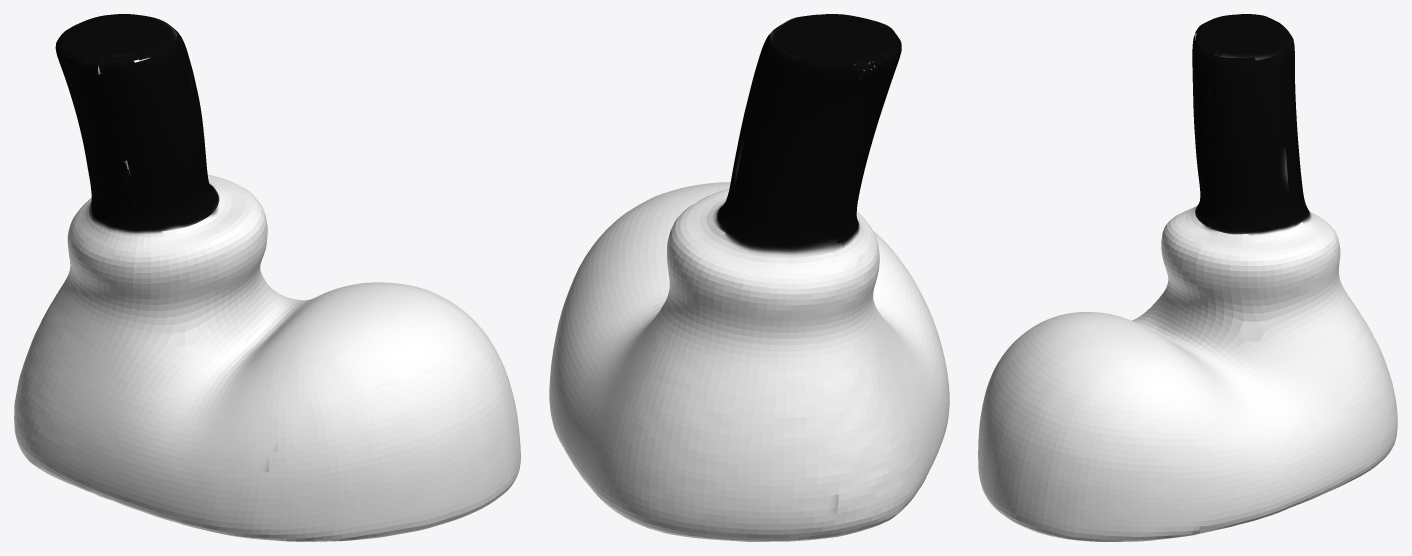
Rendered from LEG_L.glb.
3 views of the same model, side by side, from view 1: azimuth 30°, elevation 25°; view 2: azimuth 150°, elevation 25°; view 3: azimuth 270°, elevation 25° (orthographic). The views are drawn at different scales.
Visible parts, largest first — view 1: LEG_L; view 2: LEG_L; view 3: LEG_L.
Boxes of the visible parts, x1=… form: LEG_L: x1=14, y1=14, x2=520, y2=541; LEG_L: x1=549, y1=14, x2=949, y2=541; LEG_L: x1=978, y1=14, x2=1397, y2=541.
Bounding box in the file's own units: 30.14 × 32.24 × 32.32.
Materials: 1 (1 with a texture image).
